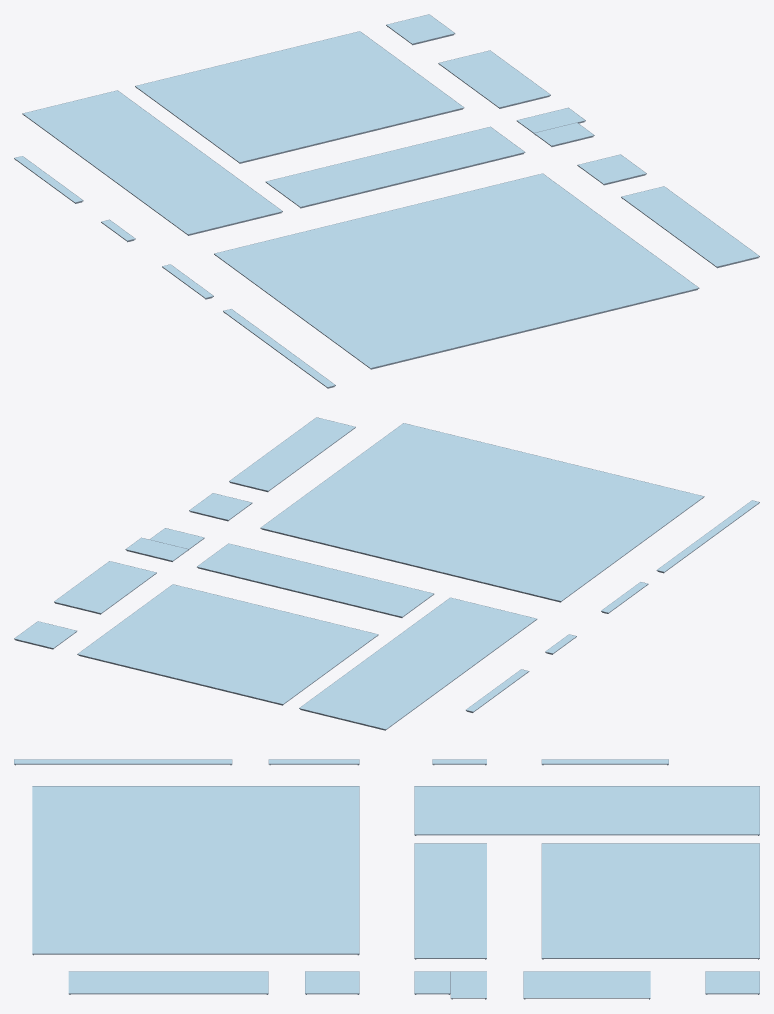
File: SM_MPRR_SolarBank_01_0.fbx
The picture shows the model from 3 angles, top to bottom: view 1: azimuth 30°, elevation 25°; view 2: azimuth 150°, elevation 25°; view 3: azimuth 270°, elevation 25°; orthographic projection. The views are drawn at different scales.
Parts seen in each view (by area): view 1: SM_MPRR_SolarBank_01_0; view 2: SM_MPRR_SolarBank_01_0; view 3: SM_MPRR_SolarBank_01_0.
Boxes of the visible parts, left/top/right/bottom form: SM_MPRR_SolarBank_01_0: left=14, top=14, right=759, bottom=388; SM_MPRR_SolarBank_01_0: left=14, top=417, right=759, bottom=730; SM_MPRR_SolarBank_01_0: left=14, top=759, right=759, bottom=999.
Bounding box in the file's own units: 6048 × 7995 × 24.6.
